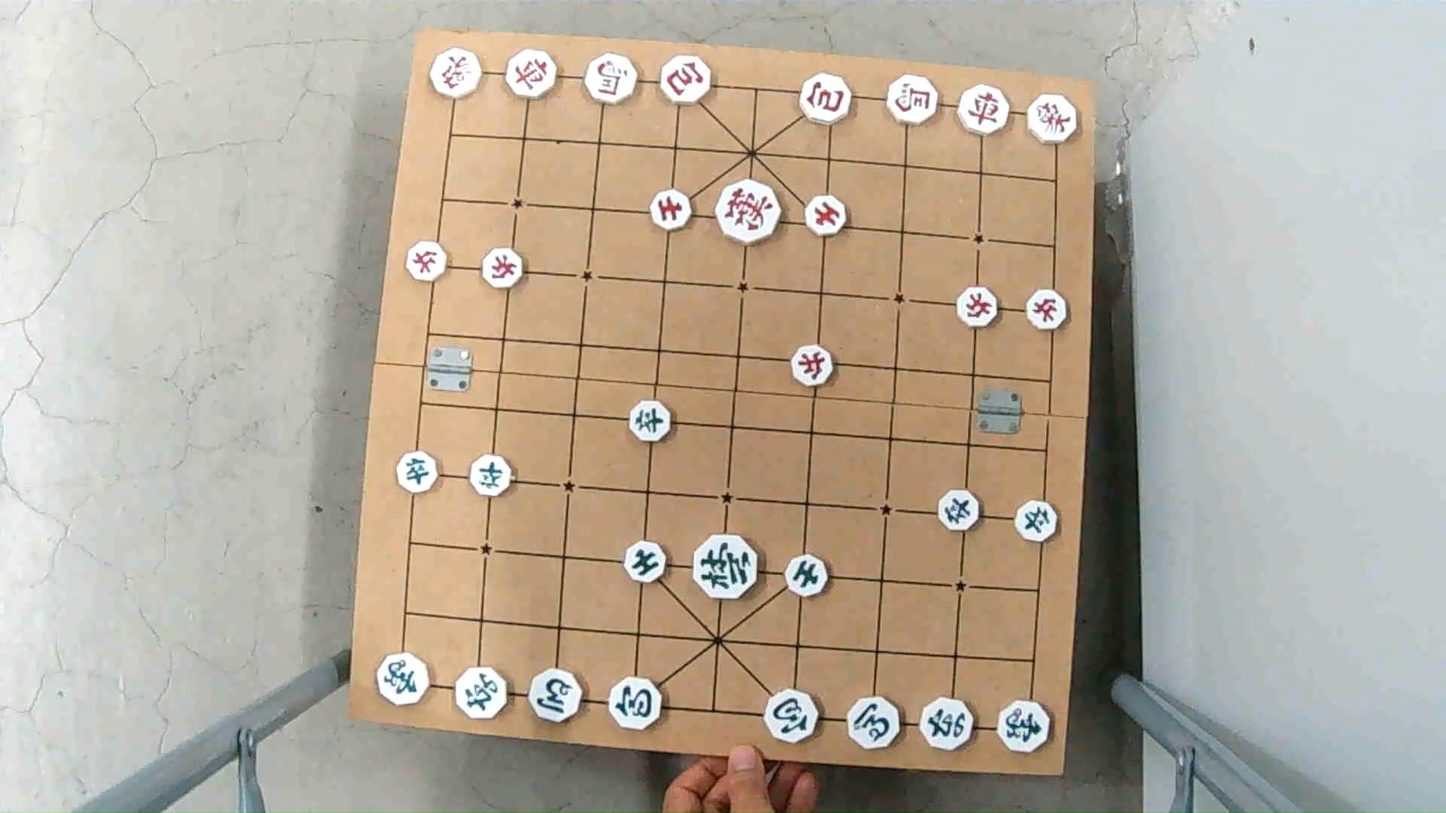cha_green: (920, 699, 977, 748), (453, 668, 508, 716)
cha_red: (955, 88, 1012, 135), (502, 53, 559, 99)
jol_green: (627, 401, 676, 440), (469, 458, 516, 497), (395, 452, 441, 490), (936, 491, 982, 528), (1014, 502, 1060, 538)
jol_red: (1023, 286, 1070, 329), (791, 347, 837, 385), (403, 245, 450, 282), (953, 289, 999, 326), (482, 251, 528, 288)
ma_green: (846, 698, 901, 748), (527, 674, 584, 722)
ma_red: (586, 57, 637, 104), (888, 78, 939, 122)
po_green: (607, 679, 664, 730), (764, 693, 820, 741)
po_red: (657, 59, 715, 104), (797, 77, 853, 122)
sa_green: (784, 554, 831, 593), (621, 545, 669, 583)
sa_red: (803, 195, 850, 235), (647, 190, 694, 227)
sang_green: (996, 702, 1052, 751), (375, 654, 430, 703)
sang_red: (425, 51, 482, 96), (1022, 95, 1078, 140)
wang_green: (691, 537, 758, 595)
wang_red: (712, 184, 781, 241)
